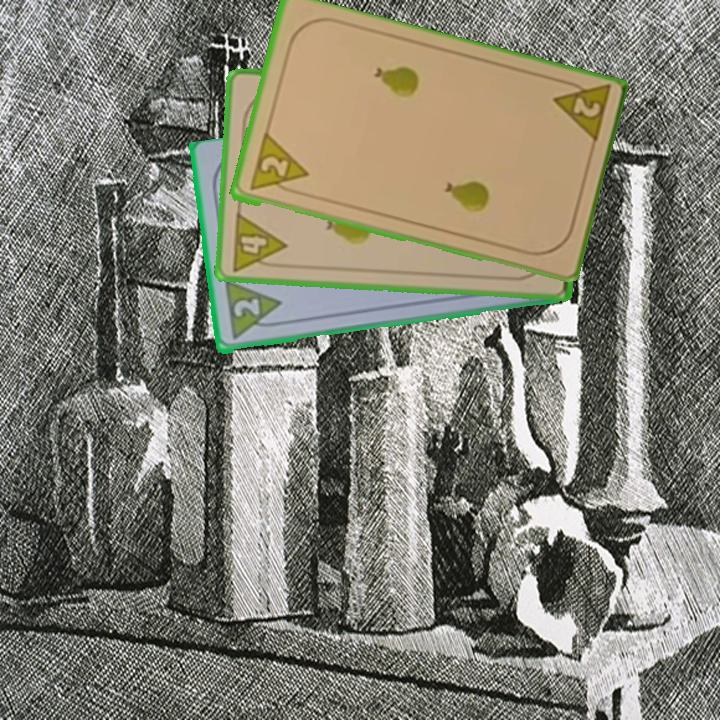2p: (548, 75, 613, 149), (245, 132, 311, 197), (229, 295, 262, 321)
4p: (228, 209, 289, 274)
